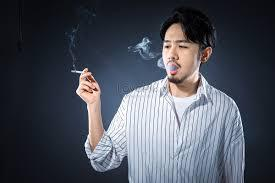smoker: (62, 8, 226, 129)
